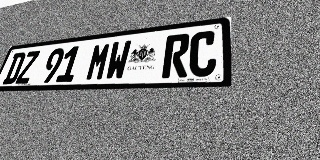1: (56, 46, 82, 82)
9: (40, 47, 66, 83)
C: (188, 30, 217, 77)
D: (2, 52, 27, 84)
M: (85, 42, 112, 81)
R: (161, 33, 190, 78)
W: (104, 40, 132, 80)
Z: (15, 50, 40, 84)
